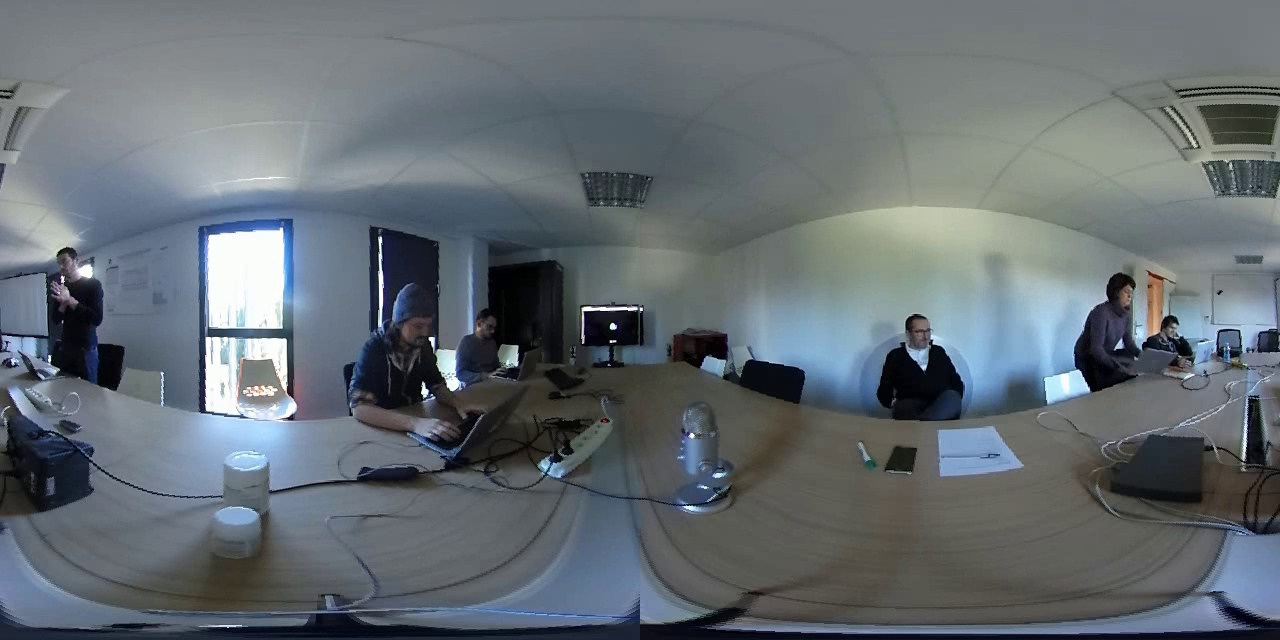person: (343, 271, 458, 434), (870, 301, 979, 422), (40, 241, 114, 379), (1080, 268, 1141, 386), (458, 309, 513, 382), (1156, 298, 1195, 367)
